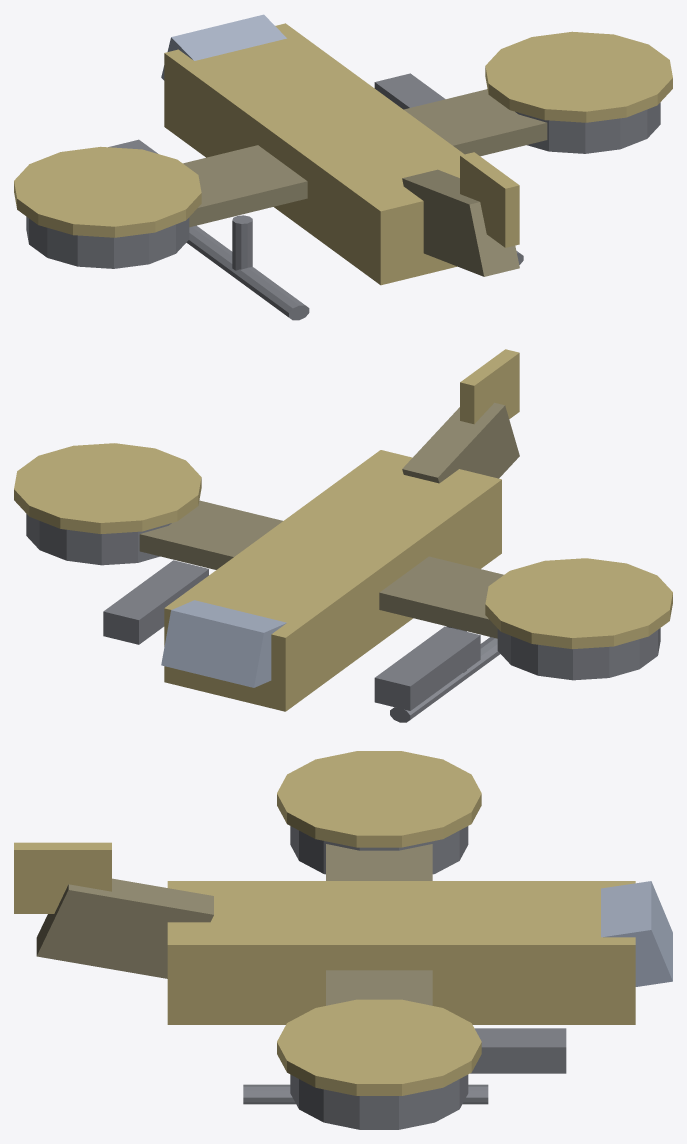
The model's file is dm_orca.glb.
The picture shows the model from 3 angles, top to bottom: view 1: azimuth 30°, elevation 25°; view 2: azimuth 150°, elevation 25°; view 3: azimuth 270°, elevation 25°; orthographic projection. The views are drawn at different scales.
Visible parts, largest first — view 1: hull; view 2: hull; view 3: hull.
Boxes of the visible parts, x1=… form: hull: x1=14, y1=14, x2=672, y2=320; hull: x1=14, y1=349, x2=672, y2=722; hull: x1=14, y1=751, x2=672, y2=1129.
Bounding box in the file's own units: 1.15 × 0.3217 × 0.9619.
